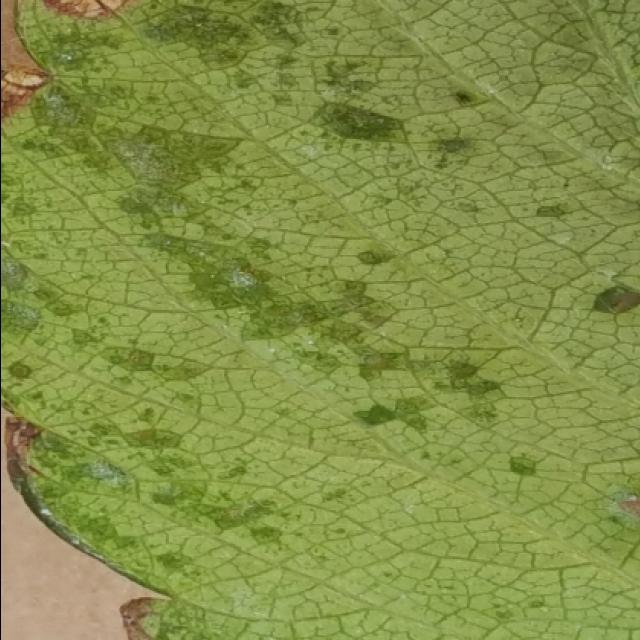Angular Leafspot: (2, 2, 640, 640)
